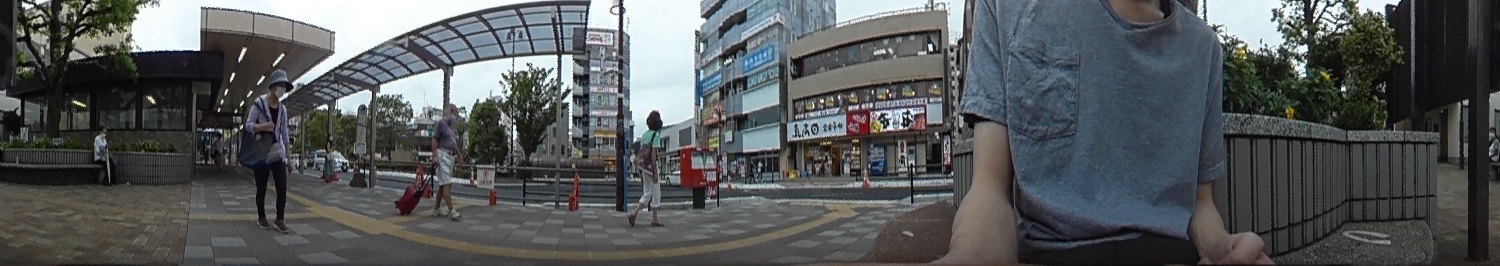difficult_person: (325, 130, 336, 181), (212, 135, 225, 171)
person: (252, 66, 294, 231), (430, 101, 467, 218), (633, 108, 667, 228), (89, 124, 118, 188)
